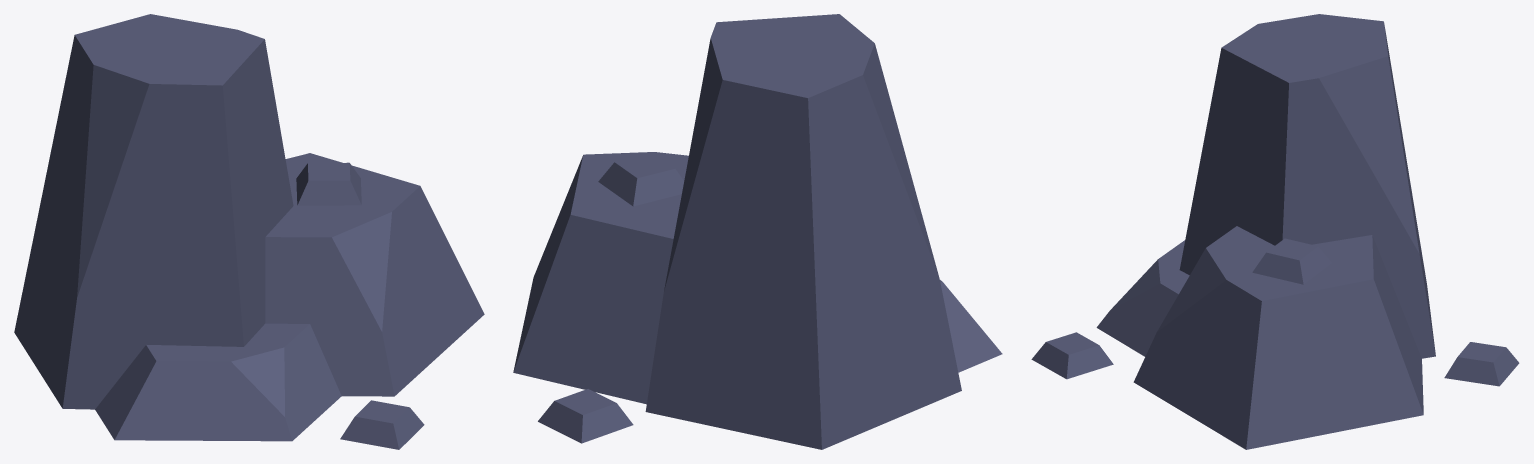
The model's file is kenney_survival-kit__rock-a__cave.fbx.
3 views of the same model, side by side, from view 1: azimuth 30°, elevation 25°; view 2: azimuth 150°, elevation 25°; view 3: azimuth 270°, elevation 25° (orthographic). The views are drawn at different scales.
Parts seen in each view (by area): view 1: kenney_survival-kit__rock-a__cave_stone; view 2: kenney_survival-kit__rock-a__cave_stone; view 3: kenney_survival-kit__rock-a__cave_stone.
Boxes of the visible parts, <box> form: kenney_survival-kit__rock-a__cave_stone: <box>14,14,484,449</box>; kenney_survival-kit__rock-a__cave_stone: <box>513,14,1002,449</box>; kenney_survival-kit__rock-a__cave_stone: <box>1031,14,1519,449</box>.
Bounding box in the file's own units: 1.98 × 1.4 × 2.22.
Materials: 1 (1 with a texture image).
